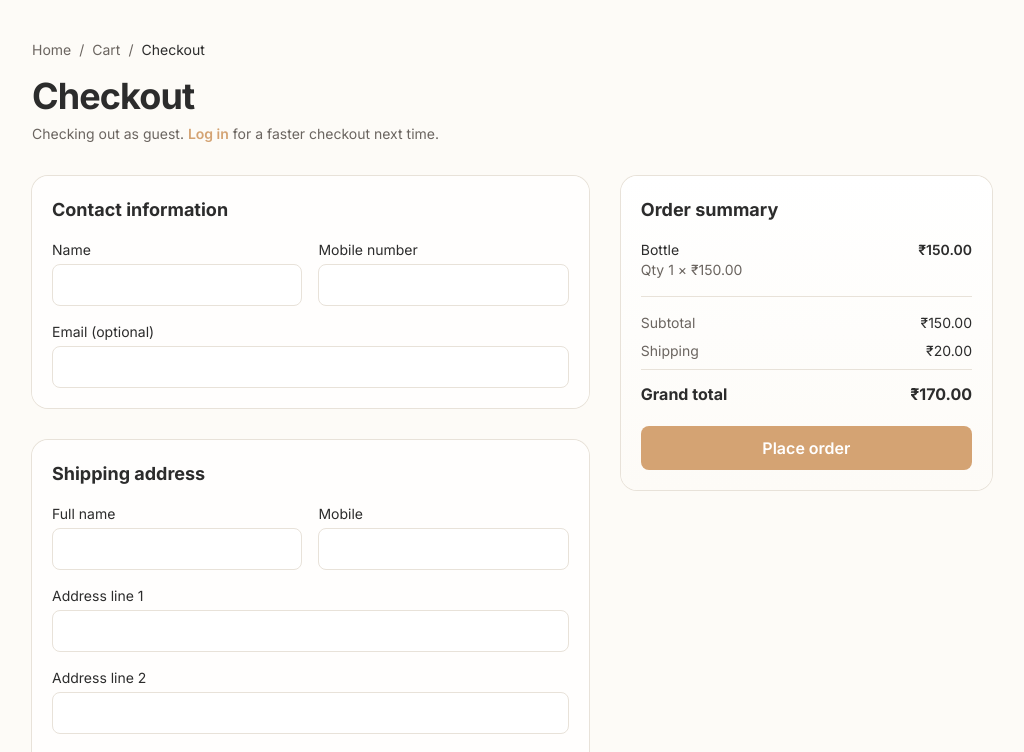
Checkout UI › validates address before place order
This screenshot has width=1024, height=752.
Click the button "Place order". click: (806, 448)
box: [641,426,972,470]
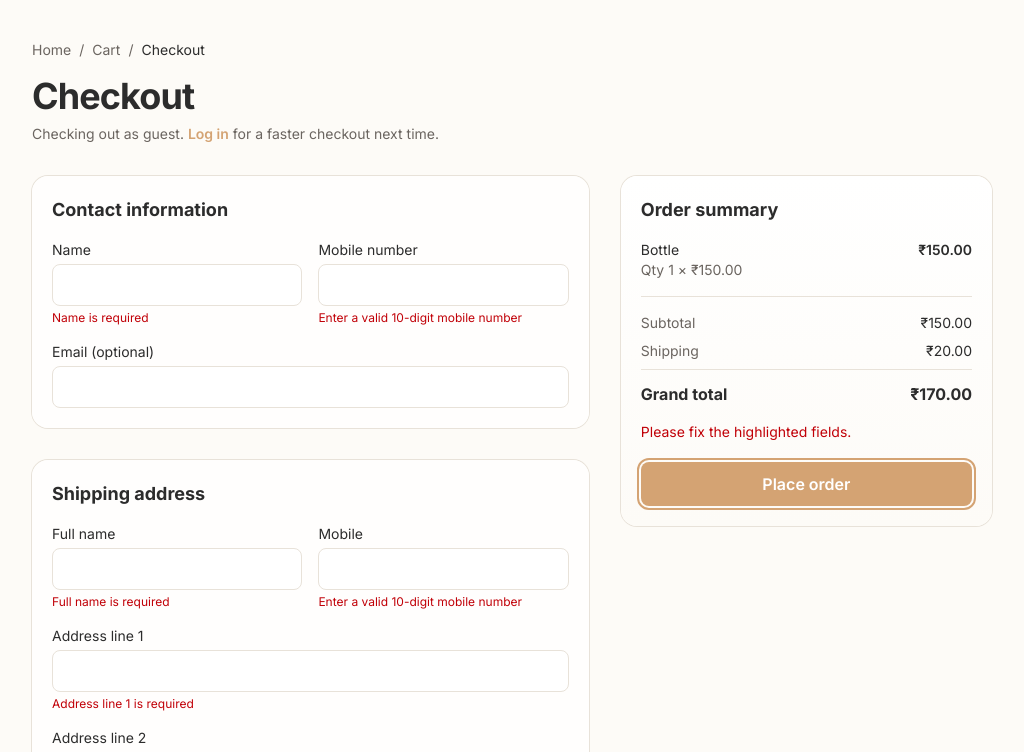
Check: the text "Please fix the highlighted fields." is shown, box [641,423,851,440]
